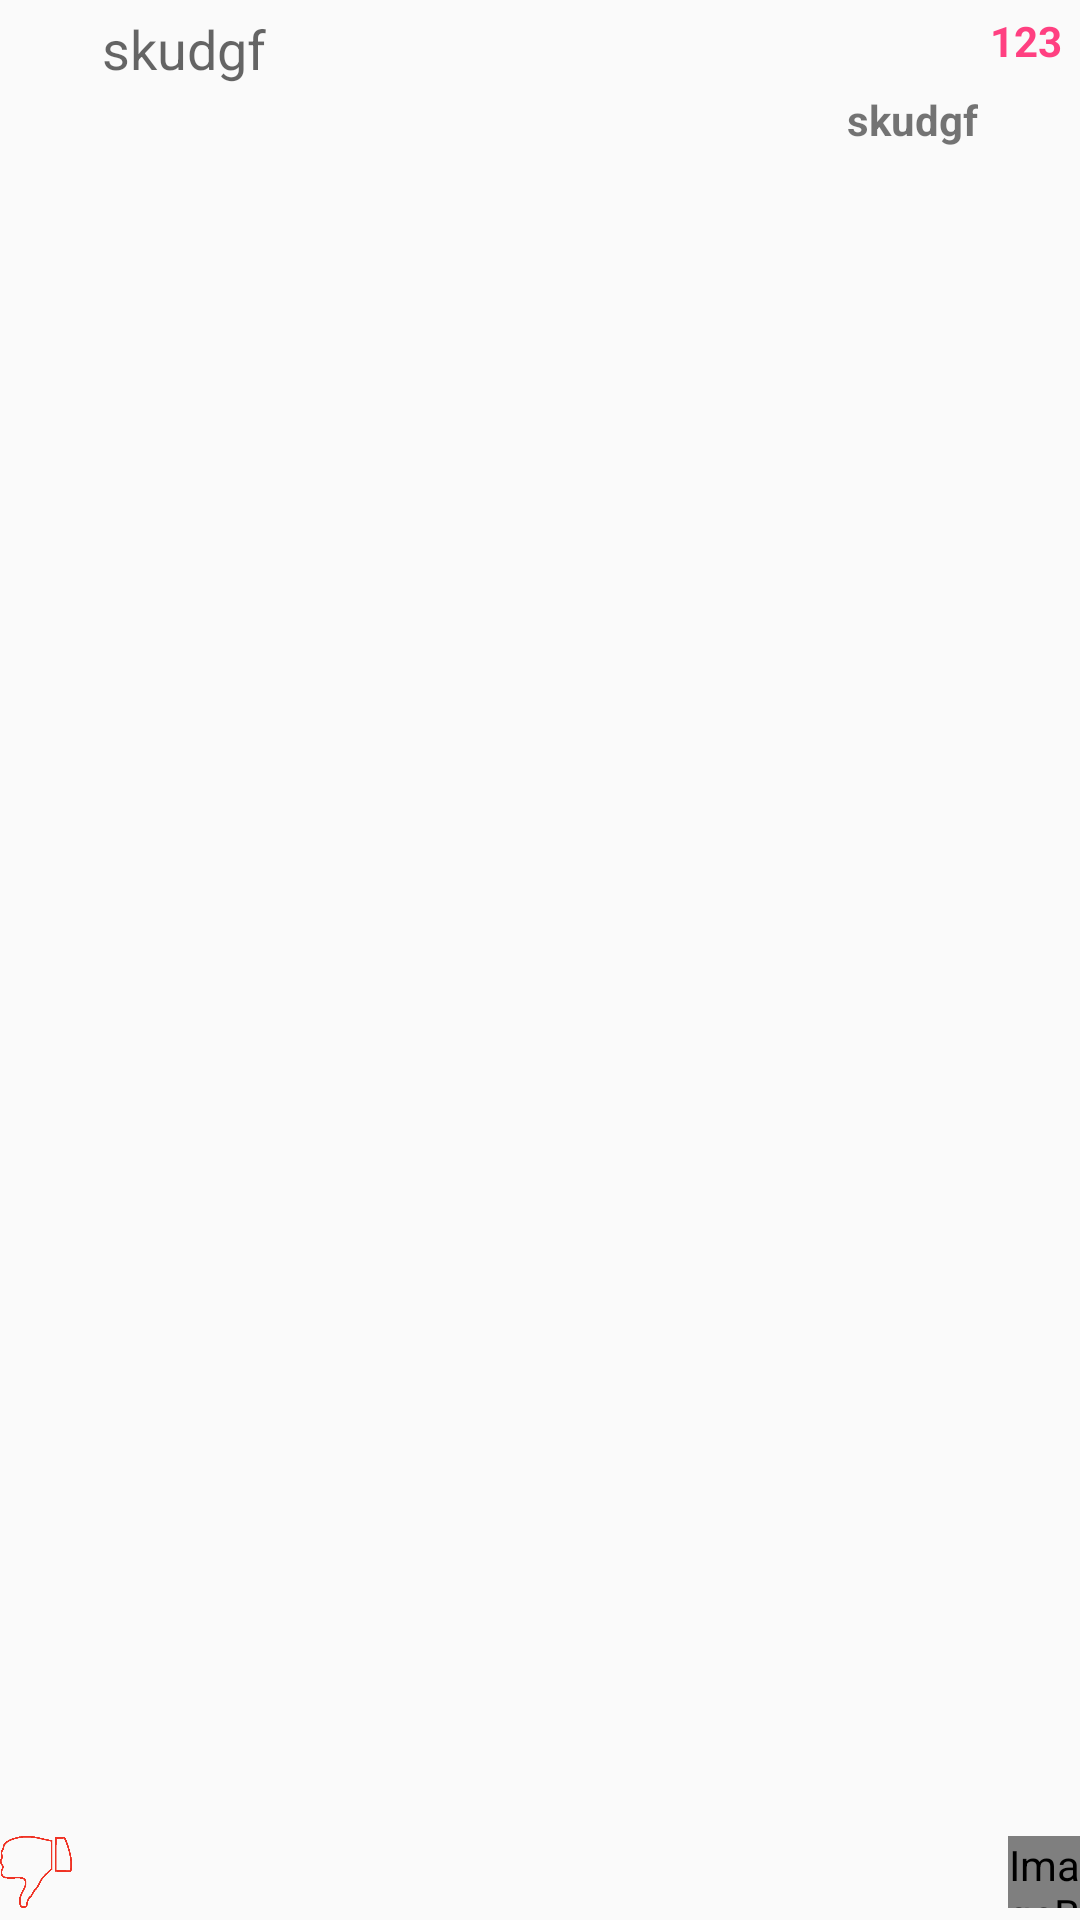

Icon bounding boxes for this 1080w x 1920h phone screenshot, format (x1, y1, x2, y2):
downvote: (0, 1836, 72, 1908)
